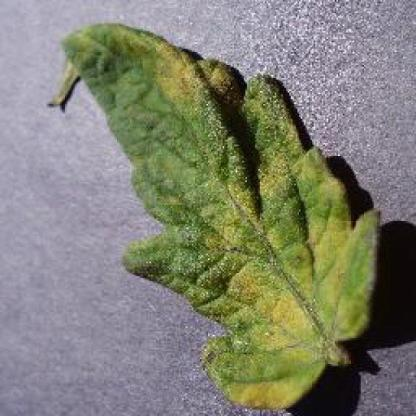Tomato_Leaf_Mold: (62, 23, 382, 409)
